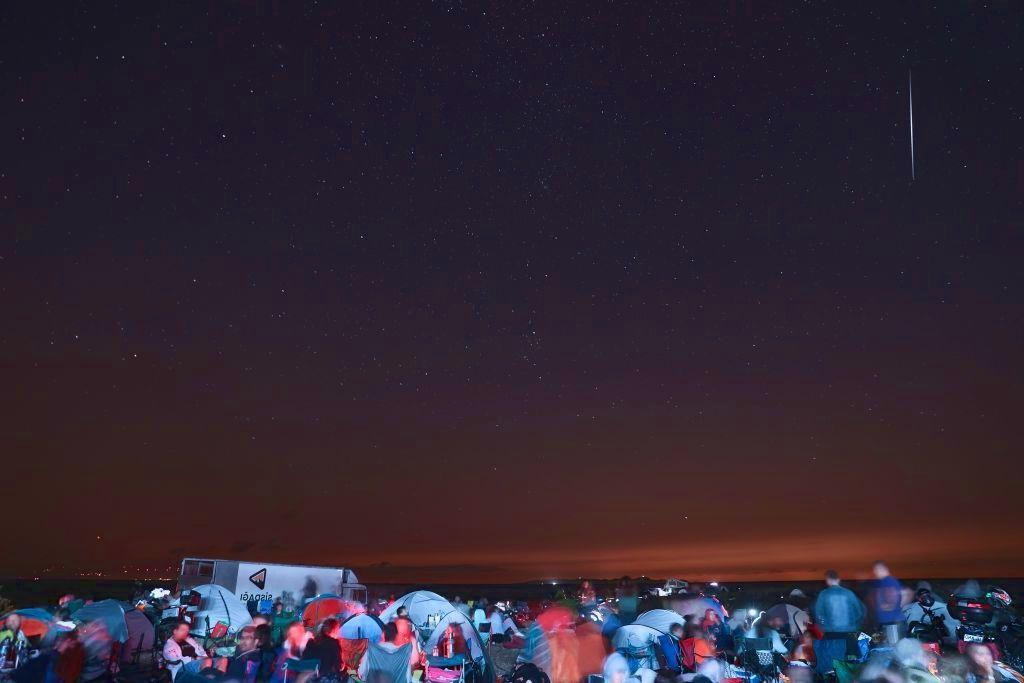meteorite: (894, 83, 928, 192)
